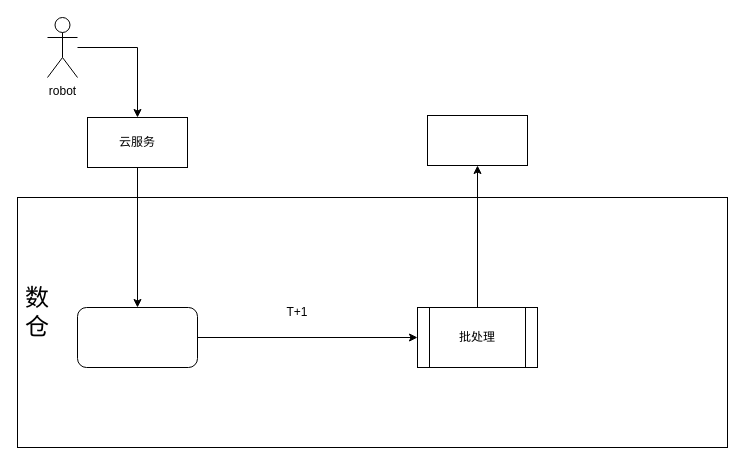
This 745x465 diagram has some shape labels left out. The centre of each missing label's shape, as x and y in pixels:
hudi: [137,337]
udesk: [477,140]
